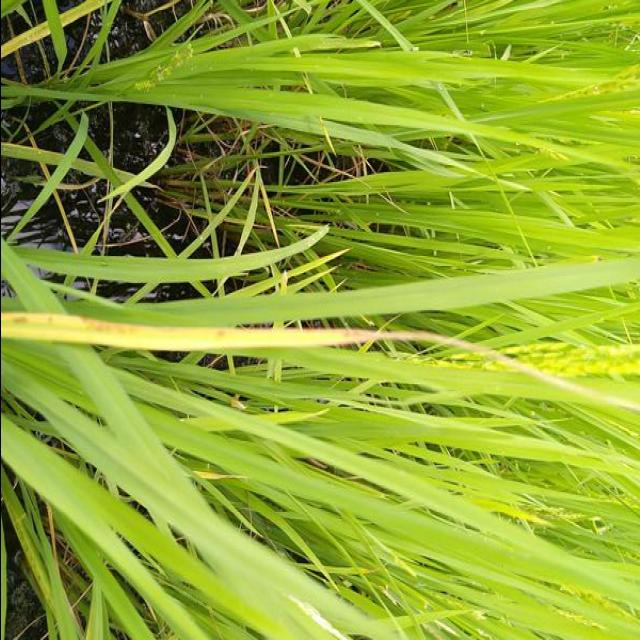Leaf Blight: (0, 310, 640, 414)
